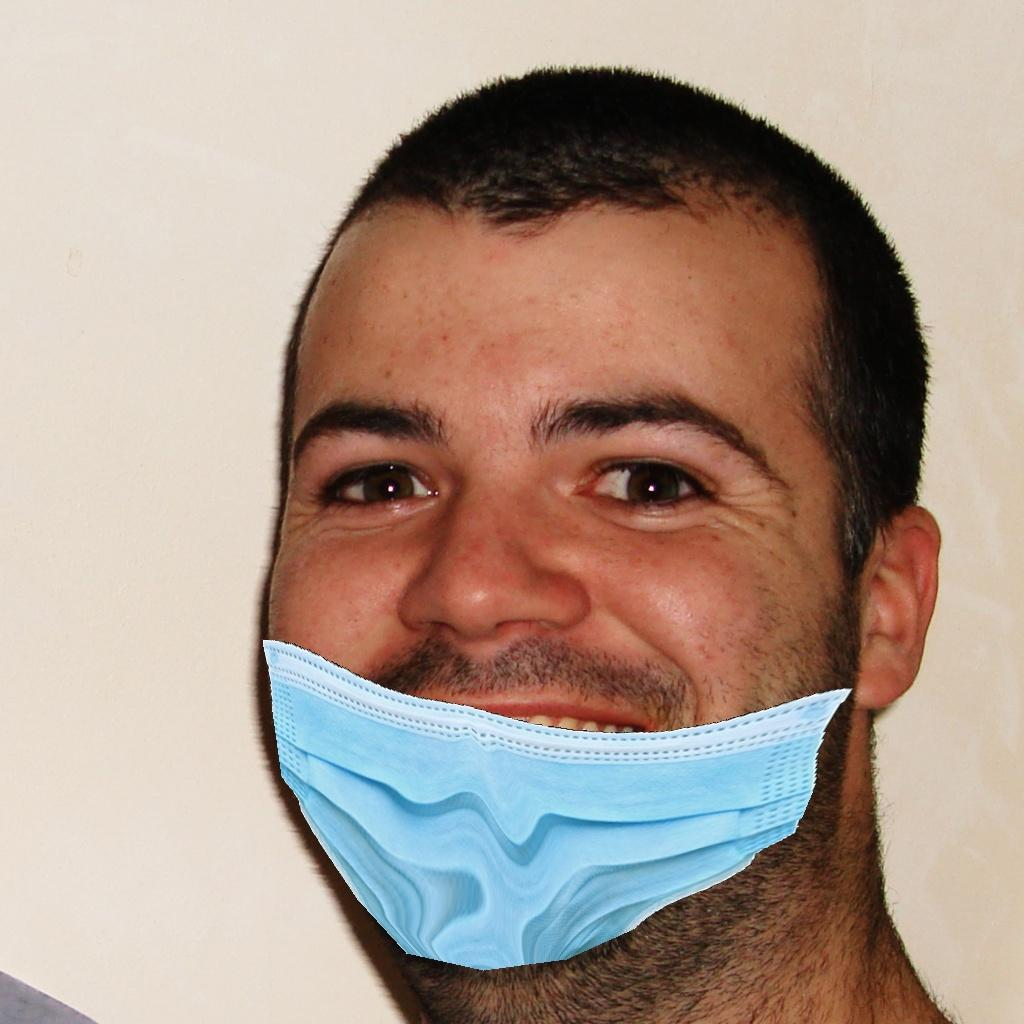Máscara Incorreta: (267, 281, 857, 965)
